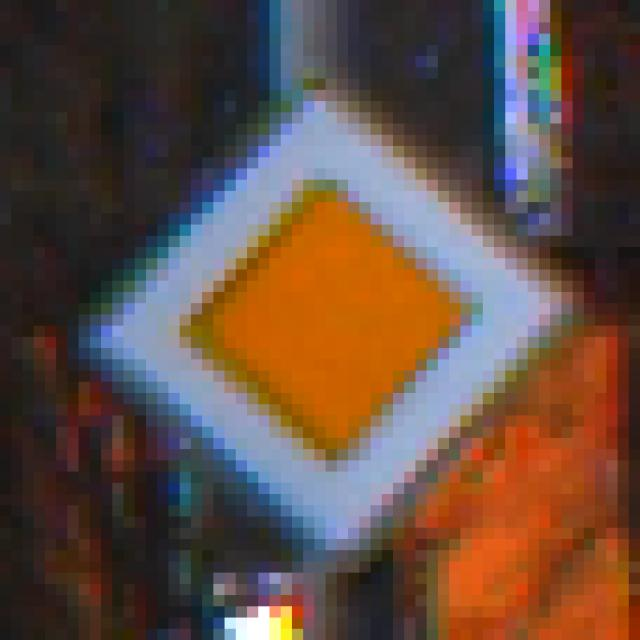Main Road: (57, 57, 585, 585)
